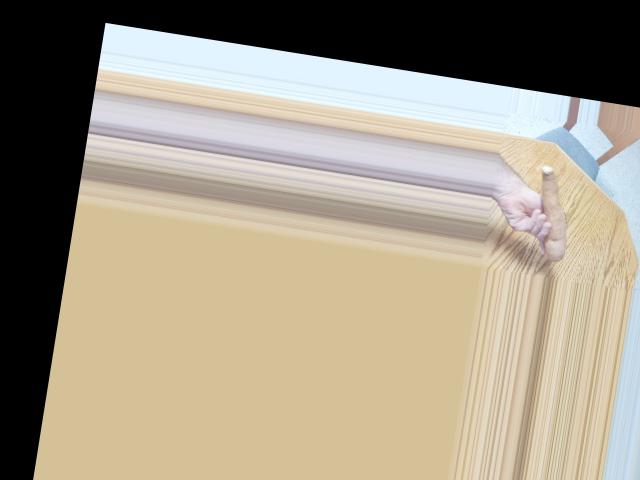sweet_potato: (526, 162, 583, 259)
